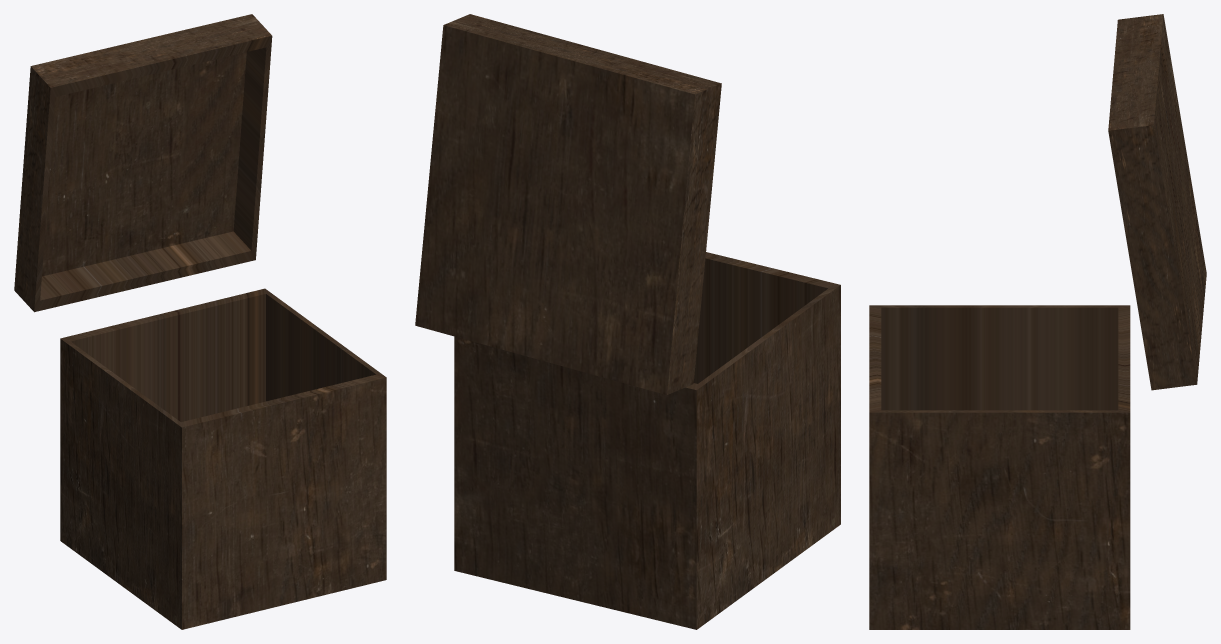
Rendered from Box_opened.fbx.
3 views of the same model, side by side, from view 1: azimuth 30°, elevation 25°; view 2: azimuth 150°, elevation 25°; view 3: azimuth 270°, elevation 25° (orthographic). The views are drawn at different scales.
Parts seen in each view (by area): view 1: J_Box, J_Box_Lid; view 2: J_Box, J_Box_Lid; view 3: J_Box, J_Box_Lid.
Boxes of the visible parts, x1=… form: J_Box: x1=60, y1=288, x2=386, y2=629; J_Box_Lid: x1=14, y1=14, x2=272, y2=312; J_Box: x1=454, y1=252, x2=840, y2=629; J_Box_Lid: x1=415, y1=14, x2=721, y2=394; J_Box: x1=869, y1=305, x2=1130, y2=629; J_Box_Lid: x1=1108, y1=14, x2=1206, y2=390.
Bounding box in the file's own units: 13.34 × 26.93 × 16.36.
Materials: 1 (1 with a texture image).
